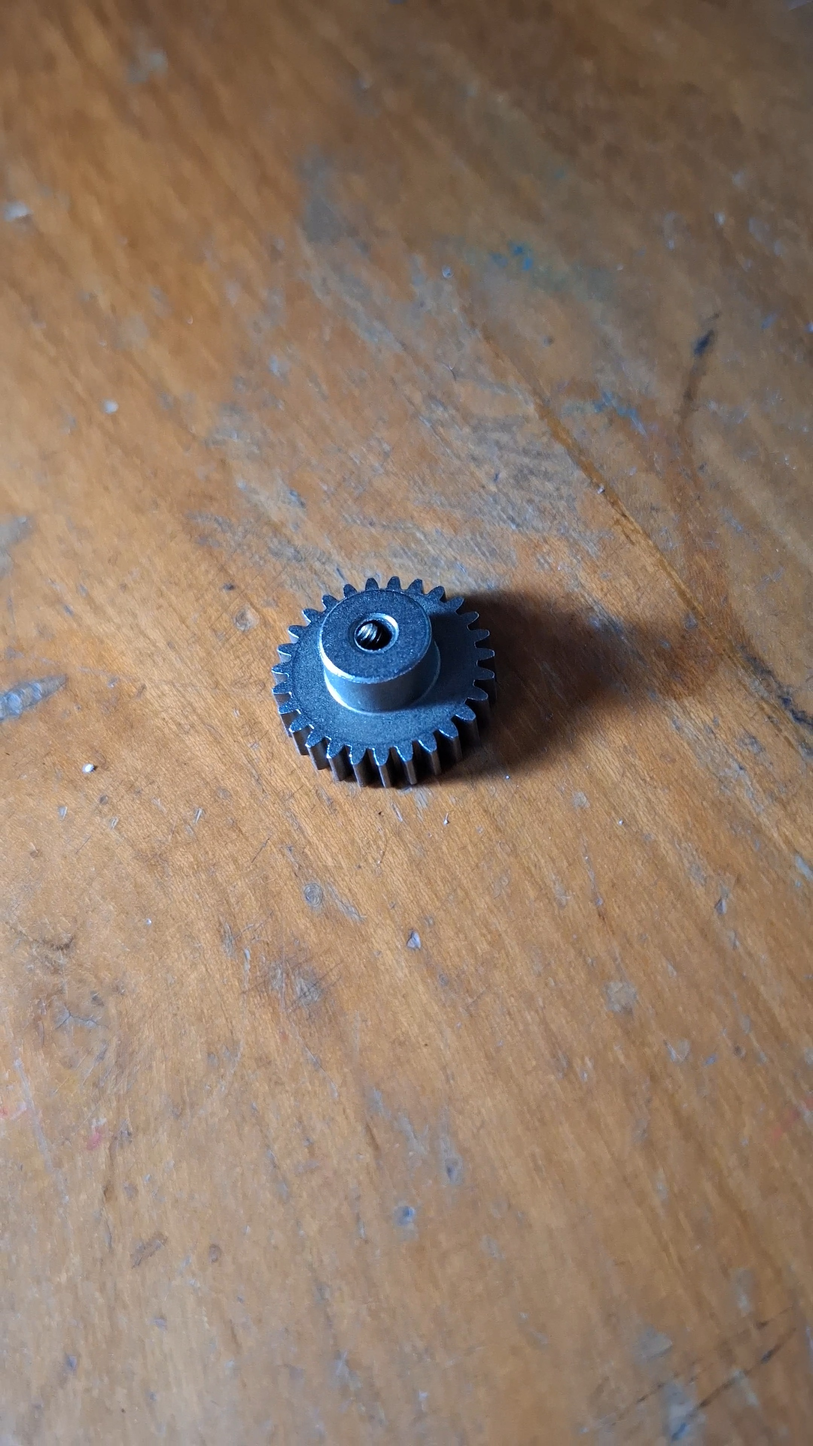spur gear: (273, 577, 495, 786)
